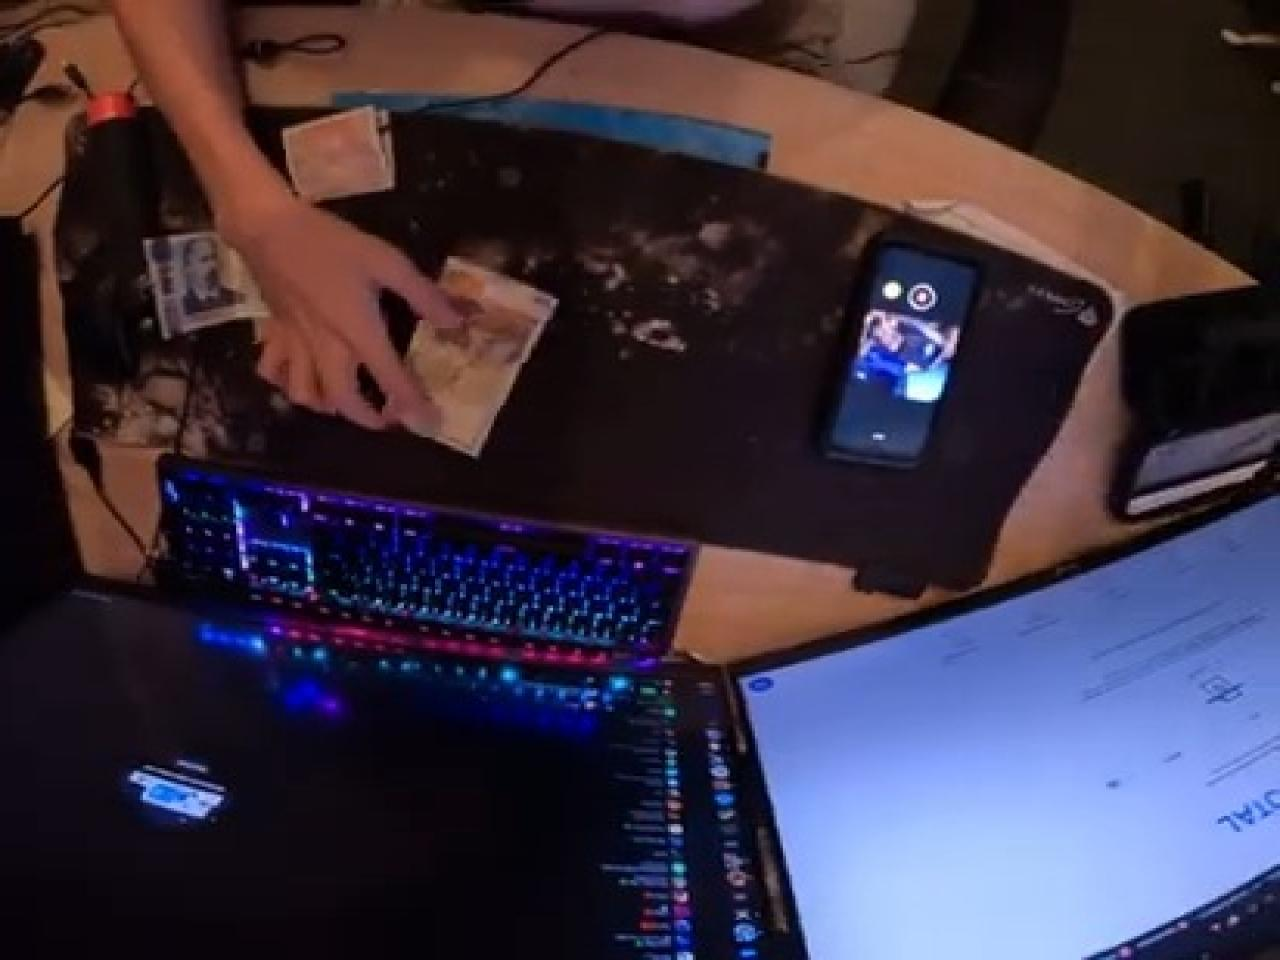50leva: (357, 253, 556, 454)
